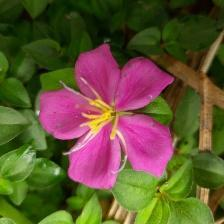malabar melastome: (35, 43, 182, 193)
